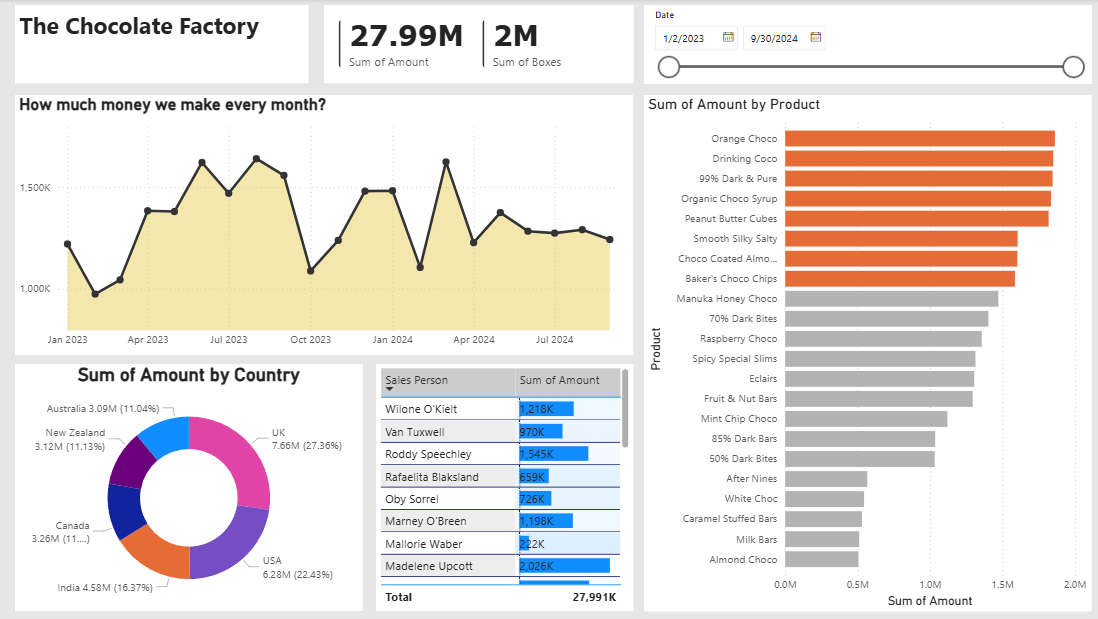

What the dashboard file says about the page in this screenshot:
{"tool":"powerbi","page":{"name":"Page 2","canvas":[1280,720],"ordinal":1},"visuals":[{"type":"lineChart","title":"How much money we make every month?","fields":{"Category":["data.Date.Variation.Date Hierarchy.Year","data.Date.Variation.Date Hierarchy.Quarter","data.Date.Variation.Date Hierarchy.Month","data.Date.Variation.Date Hierarchy.Day"],"Y":["data.Amount"]},"box":[20.1,111,717.9,302.3],"z":0},{"type":"donutChart","fields":{"Category":["data.Country"],"Y":["data.Amount"]},"box":[20.1,423.9,403.8,286.9],"z":1000},{"type":"tableEx","fields":{"Values":["data.Sales Person","data.Amount"]},"box":[439.3,423.9,298.7,286.9],"z":2000},{"type":"barChart","fields":{"Category":["data.Product"],"Y":["data.Amount"]},"box":[749.8,111,519.6,599.9],"z":2001},{"type":"cardVisual","fields":{"Data":["data.Amount","data.Boxes"]},"box":[379,7.1,360.1,90.9],"z":2002},{"type":"slicer","fields":{"Values":["data.Date"]},"box":[749.8,7.1,519.6,90.9],"z":2003},{"type":"textbox","box":[20.1,7.1,341.3,90.9],"z":2004}]}

Visuals, with their boxes in screenshot pixels (x1, y1, x2, y2), scaled from the page's 1280x720 canvas onto the 1098x619 screenshot:
"How much money we make every month?" lineChart: Rect(17, 95, 633, 355)
donutChart - data.Country x data.Amount: Rect(17, 364, 364, 611)
tableEx - data.Sales Person x data.Amount: Rect(377, 364, 633, 611)
barChart - data.Product x data.Amount: Rect(643, 95, 1089, 611)
cardVisual - data.Amount x data.Boxes: Rect(325, 6, 634, 84)
slicer - data.Date: Rect(643, 6, 1089, 84)
textbox: Rect(17, 6, 310, 84)
